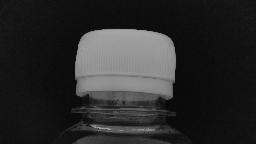Loose Cap: (66, 71, 182, 119)
